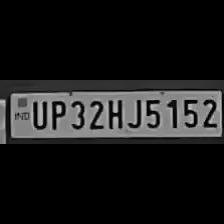1: (162, 96, 180, 130)
2: (199, 95, 219, 129), (86, 96, 104, 130)
3: (66, 96, 86, 130)
5: (140, 96, 162, 130), (178, 96, 198, 128)
H: (104, 96, 124, 130)
J: (124, 96, 142, 130)
P: (46, 97, 66, 130)
U: (28, 97, 48, 129)
